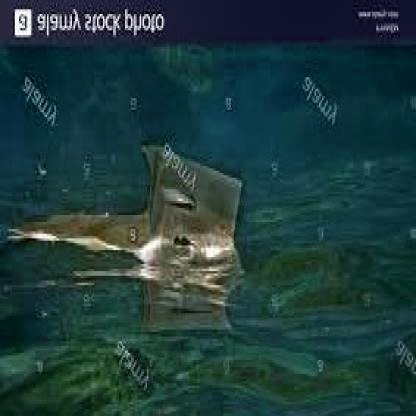pbag: (1, 136, 244, 268)
